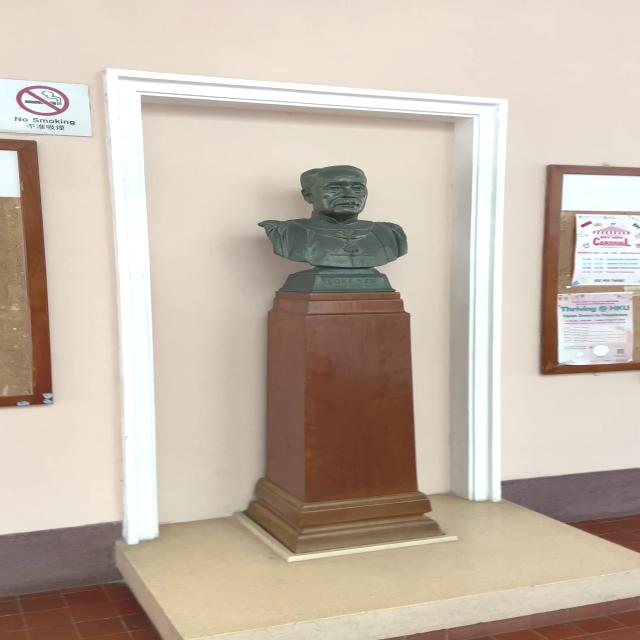statues: (256, 158, 420, 298)
